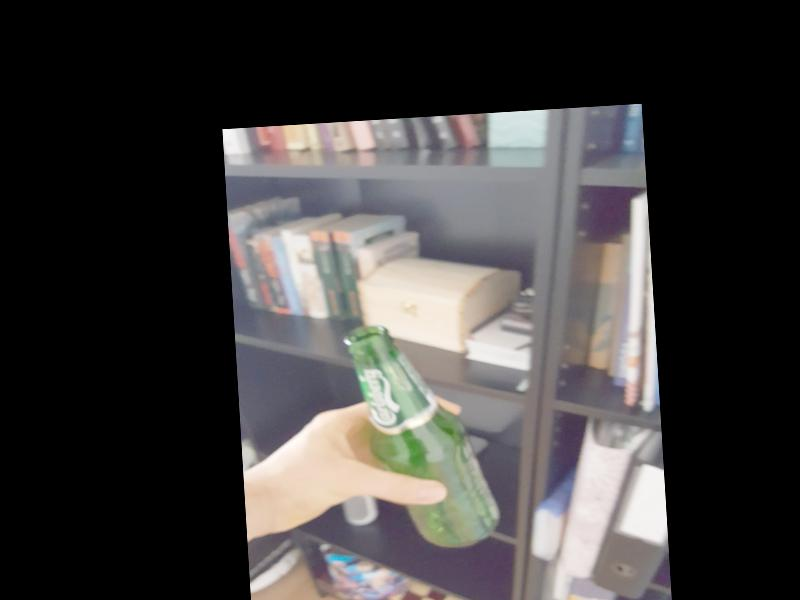Beer: (346, 319, 504, 553)
